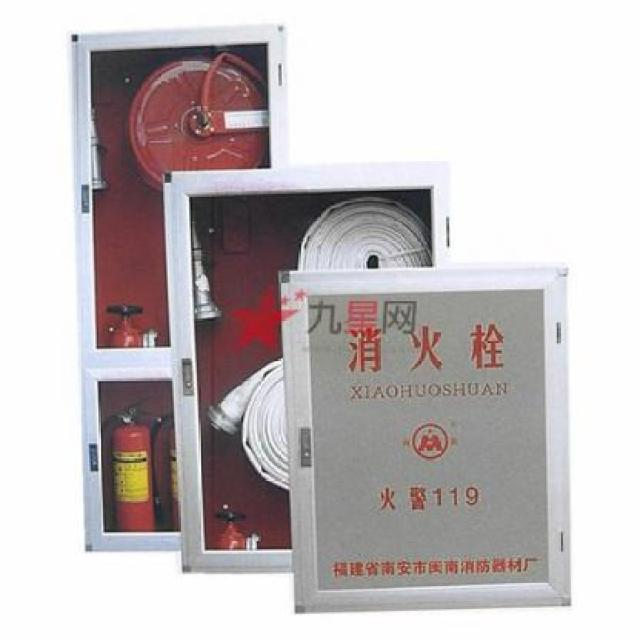firehydrant: (158, 152, 460, 581), (67, 18, 296, 560), (277, 258, 577, 620)
